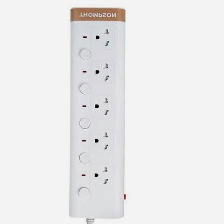three_eye_plug: (65, 3, 130, 222)
